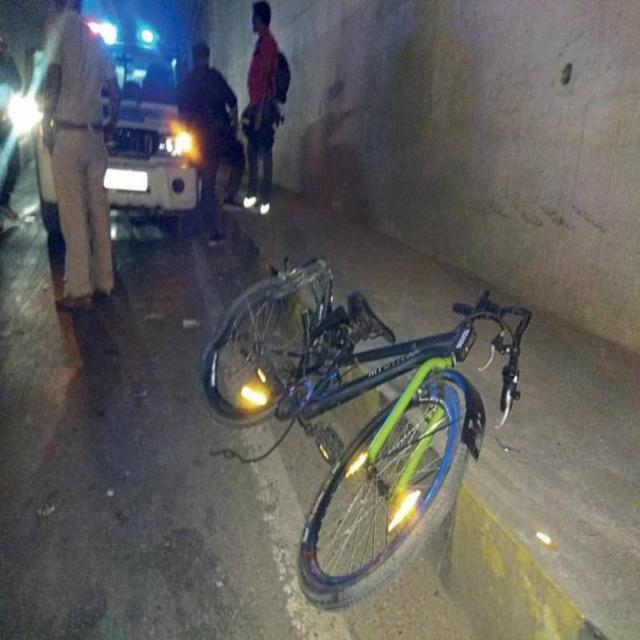accident: (202, 258, 531, 607)
